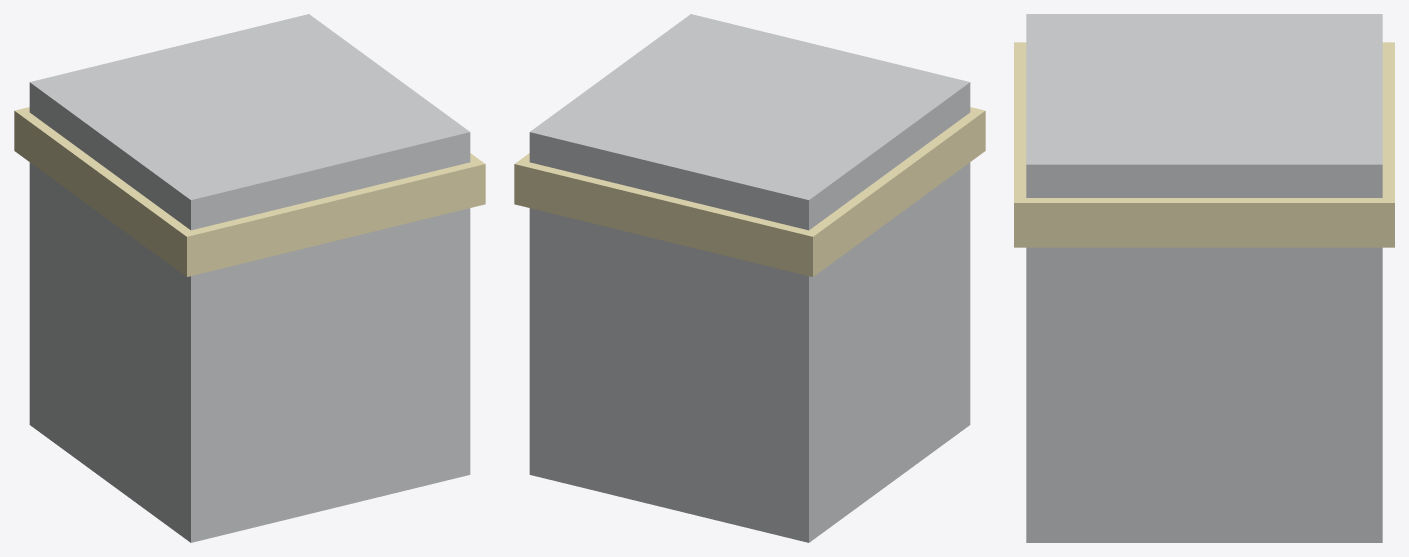
Rendered from rei_elfo_manga_sup.glb.
3 renders of one model, left to right at view 1: azimuth 30°, elevation 25°; view 2: azimuth 150°, elevation 25°; view 3: azimuth 270°, elevation 25°, orthographic. The views are drawn at different scales.
Parts seen in each view (by area): view 1: rei_elfo_manga_sup; view 2: rei_elfo_manga_sup; view 3: rei_elfo_manga_sup.
Part boxes in pixels (bbox=[...]): rei_elfo_manga_sup: bbox=[14, 14, 485, 542]; rei_elfo_manga_sup: bbox=[514, 14, 985, 542]; rei_elfo_manga_sup: bbox=[1014, 14, 1394, 542].
Bounding box in the file's own units: 0.31 × 0.34 × 0.31.
